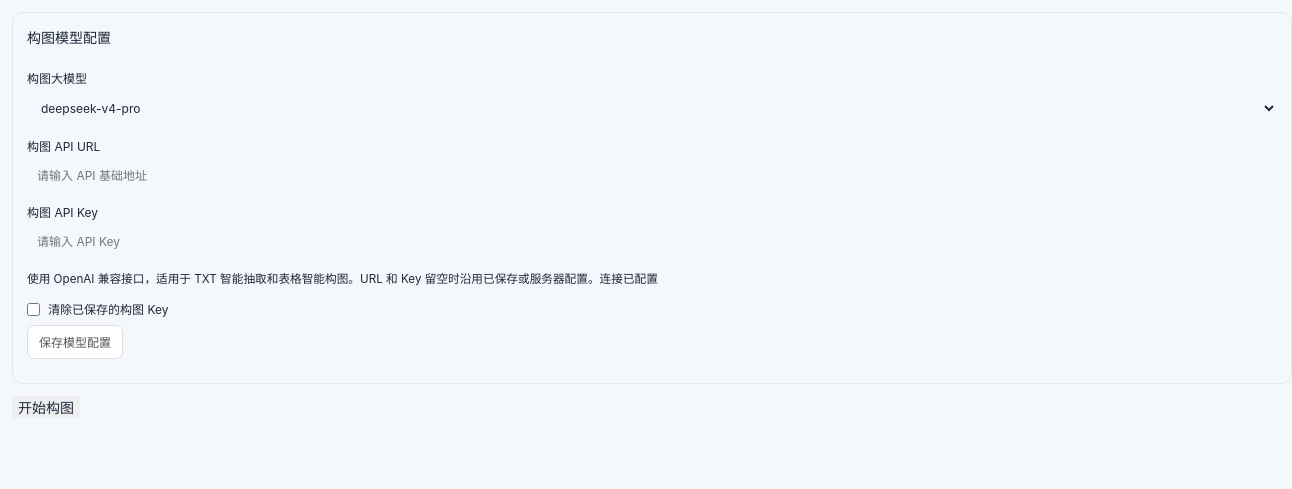
Test case: keeps edited settings and construction blocked when saving fails
expect the text "连接已配置" is shown: met, box [600,272,658,286]
Step 1. Type "https://new.test/v1" into the field labelled "构图 API URL" → (652, 176), box [27,160,1277,191]
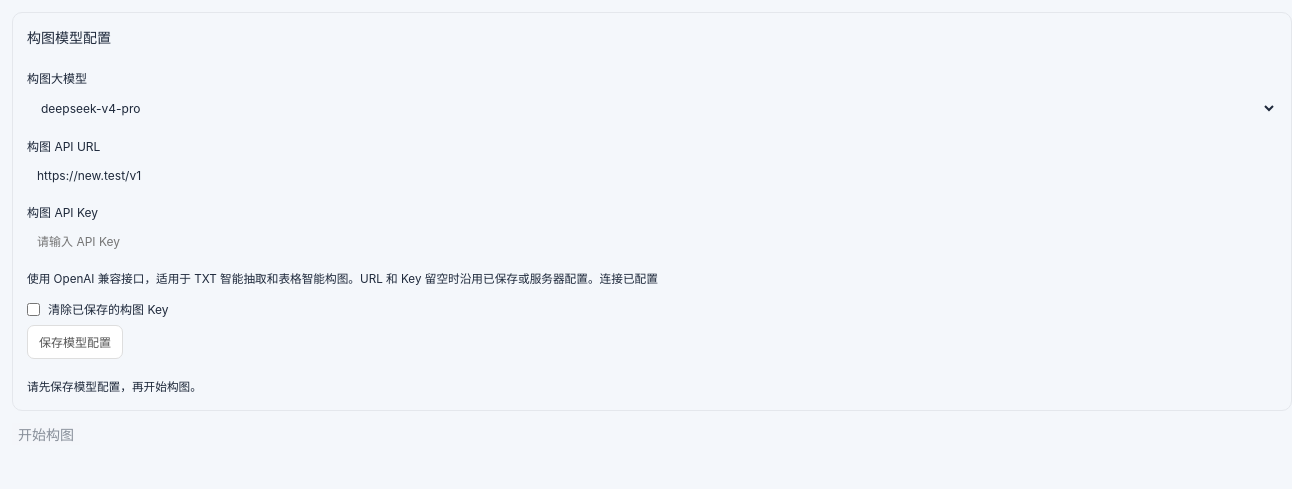
Step 2. Click the button "保存模型配置" → click(75, 342), box [27,324,123,358]
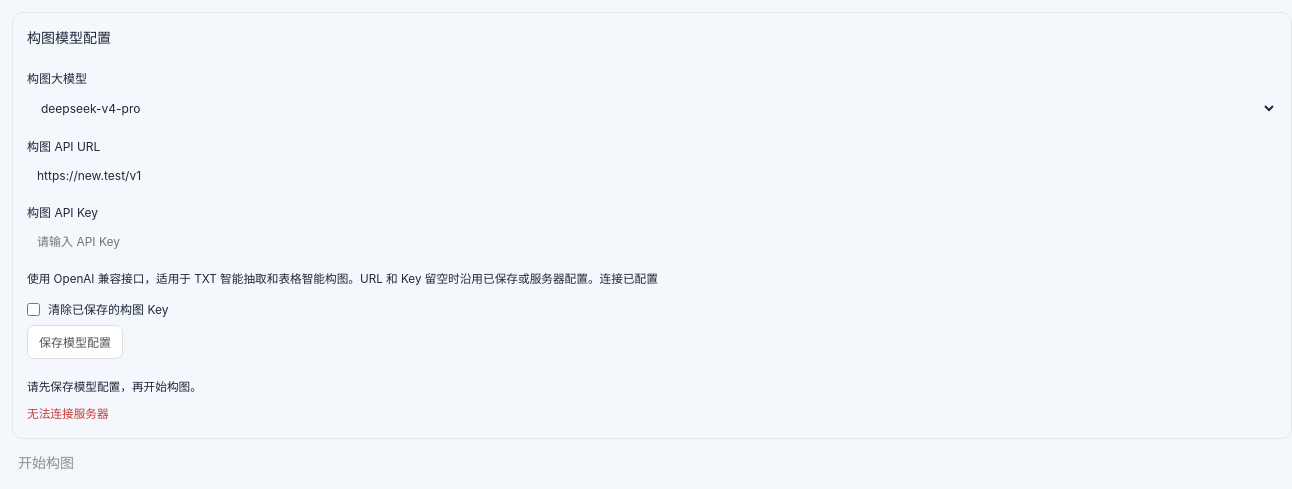
expect the button "开始构图" is disabled: met, box [12,450,80,472]
expect the message reads "无法连接服务器": met, box [27,407,109,421]
